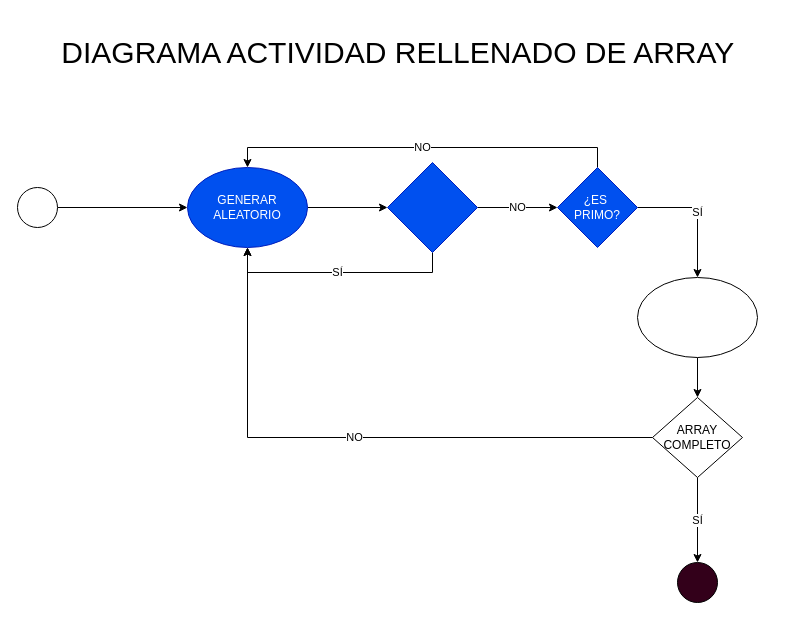
Image size: 795x620. Some labels were removed from this diagram. The shapes that lost their labels are listed below. From the top down, each one's centre as x and y in pixels, then its label:
At pixel 432 207: "¿ESTÁ REPETIDO?".
At pixel 697 317: "ASIGNO A POSCIÓN DE ARRAY".
